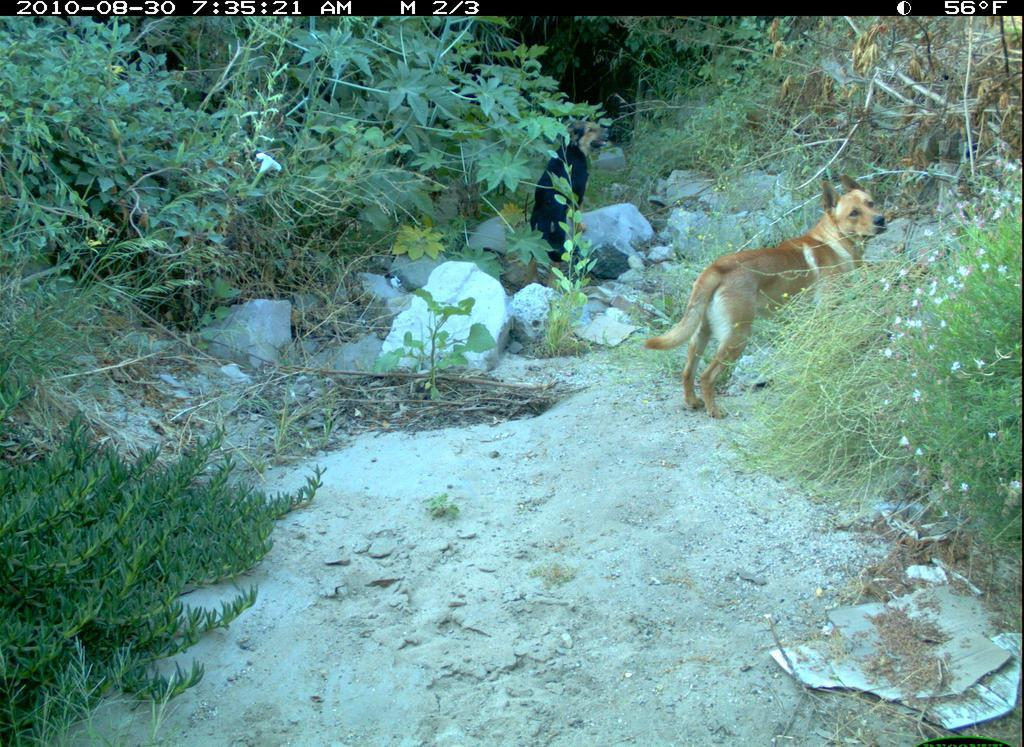dog: (639, 164, 898, 433), (523, 113, 620, 267)
